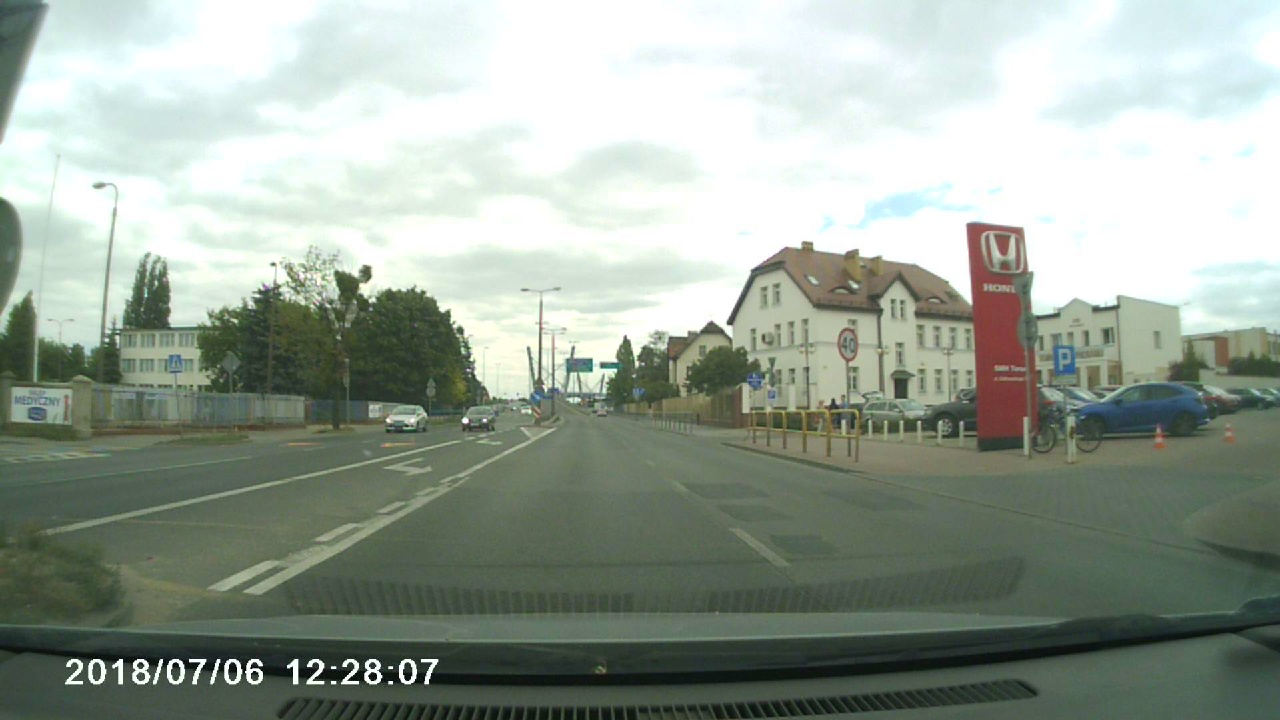B33_40: (838, 327, 859, 361)
D18: (1054, 346, 1075, 375)
